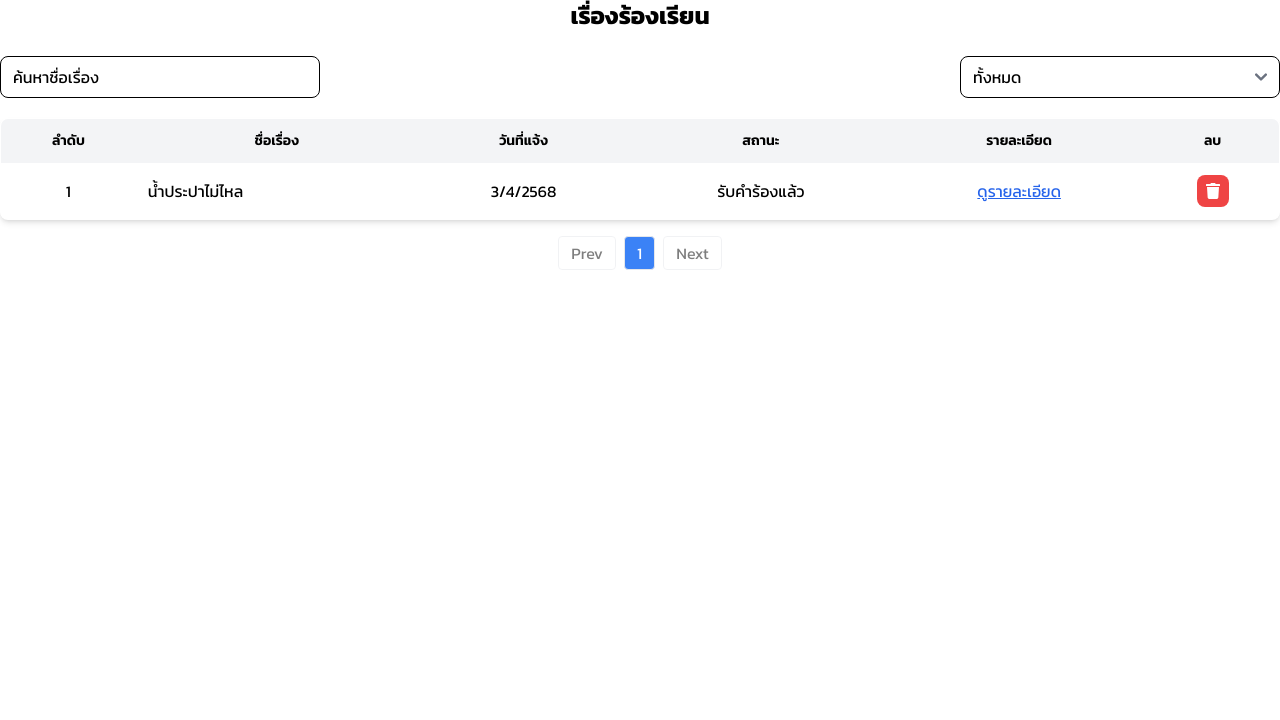
ReportAdmin Component › should open modal and show all report details
Expected: the text "น้ำประปาไม่ไหล" is shown, [136,163,418,220]
ใช้ getByRole เพื่อหาปุ่มที่มีข้อความ 'ดูรายละเอียด'
What coordinates should you click on to do the following:
click the button "ดูรายละเอียด"
I would click on:
 (1019, 191)
Its box is [977,179,1061,203].
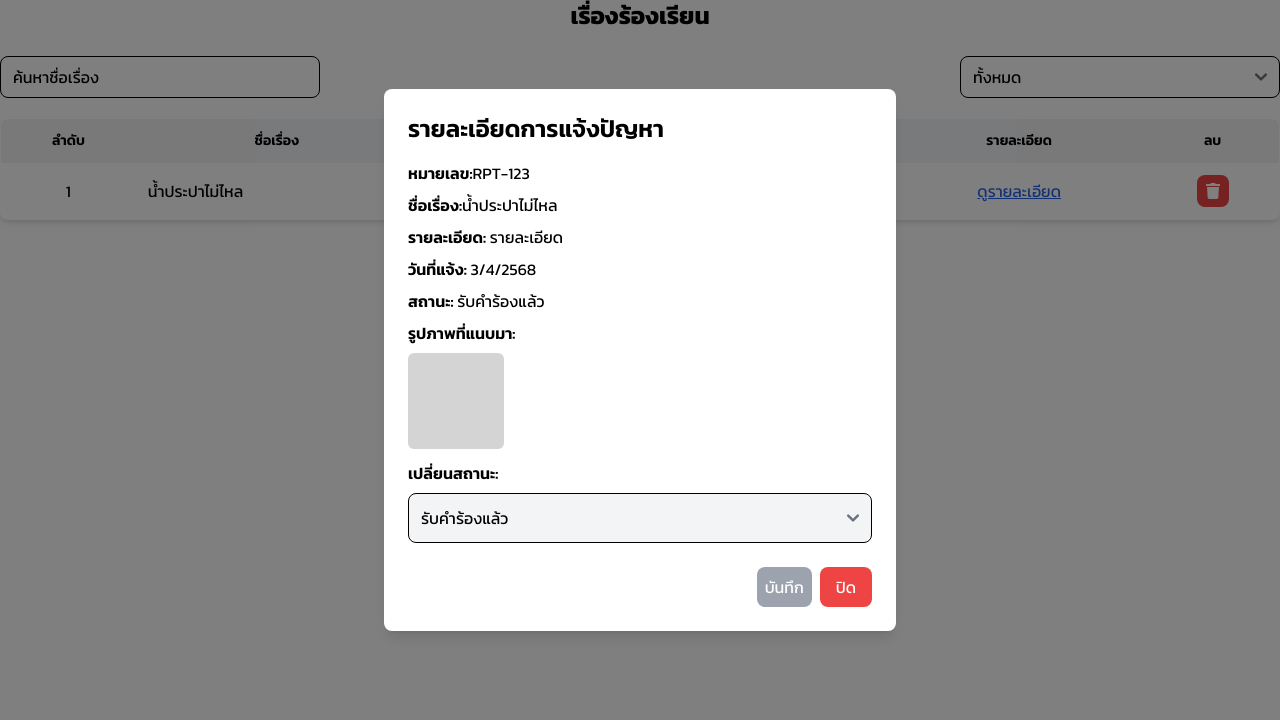
Expected: the heading "รายละเอียดการแจ้งปัญหา" is shown, [408,113,664,145]
Expected: the element with test id "report-tracking-id" shows "RPT-123", [472,161,530,185]
Expected: the element with test id "report-title" shows "น้ำประปาไม่ไหล", [462,193,557,217]
